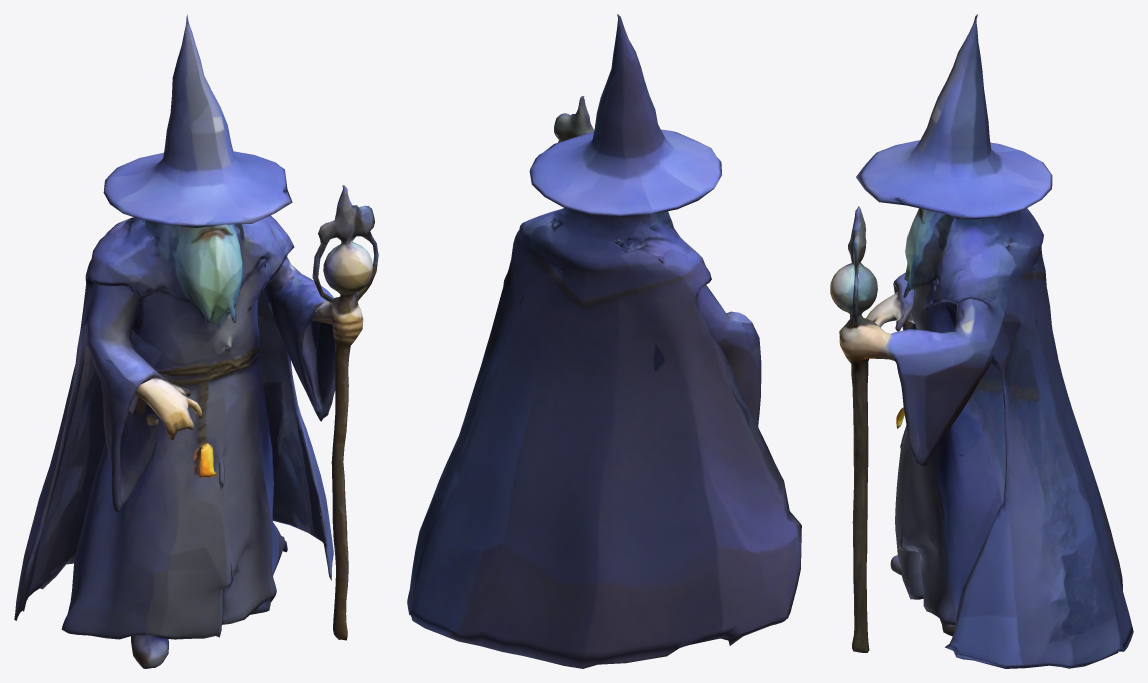
Rendered from bishop.glb.
3 views of the same model, side by side, from view 1: azimuth 30°, elevation 25°; view 2: azimuth 150°, elevation 25°; view 3: azimuth 270°, elevation 25° (orthographic). The views are drawn at different scales.
Bounding box in the file's own units: 1.16 × 1.99 × 0.9238.
Materials: 1 (1 with a texture image).
